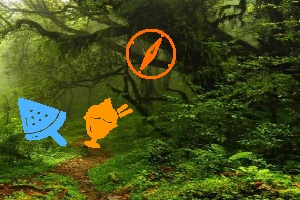三角蘑菇: (16, 97, 69, 149)
指南针: (125, 28, 178, 79)
杯子冰淇淋: (83, 98, 130, 149)
